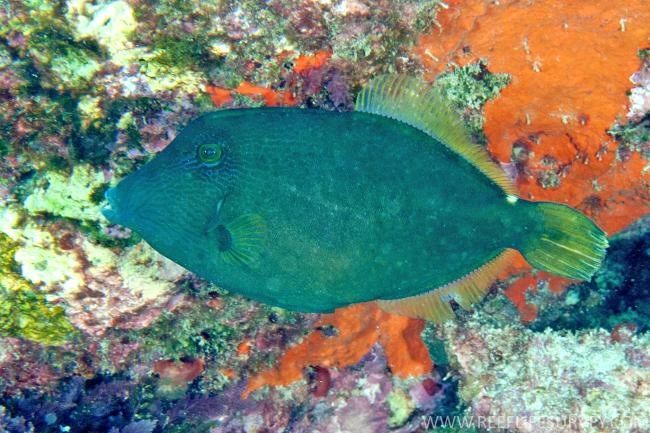fish: (101, 75, 609, 318)
